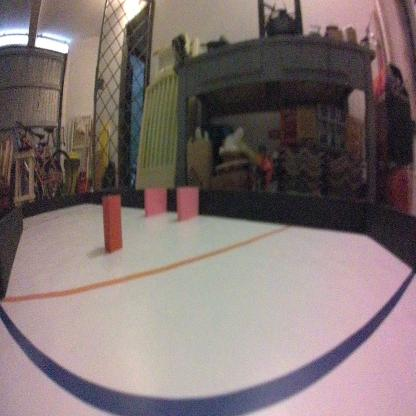magenta: (174, 187, 203, 226), (143, 184, 166, 218)
red: (101, 189, 121, 249)
